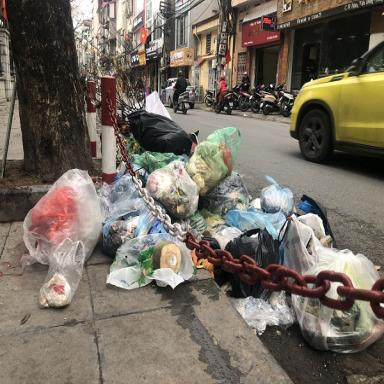plasticbag: (91, 121, 340, 318), (246, 203, 382, 364), (19, 160, 105, 308), (148, 128, 243, 213), (128, 98, 194, 157), (259, 169, 295, 218), (222, 207, 278, 238)
